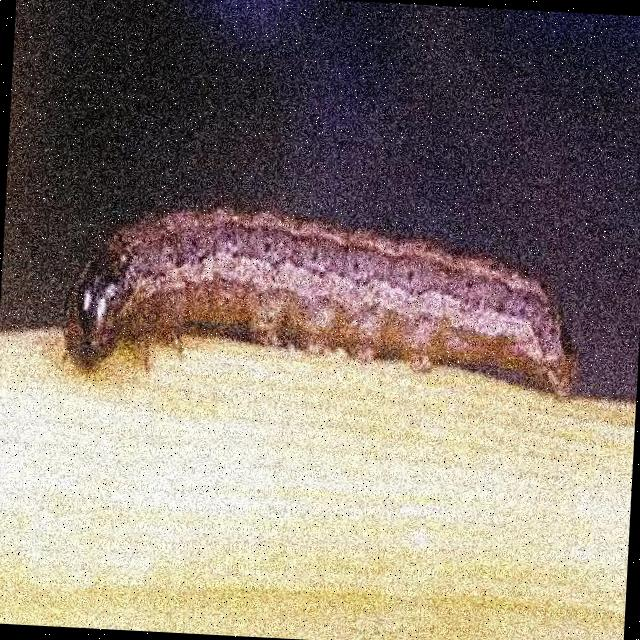worm: (62, 198, 590, 404)
